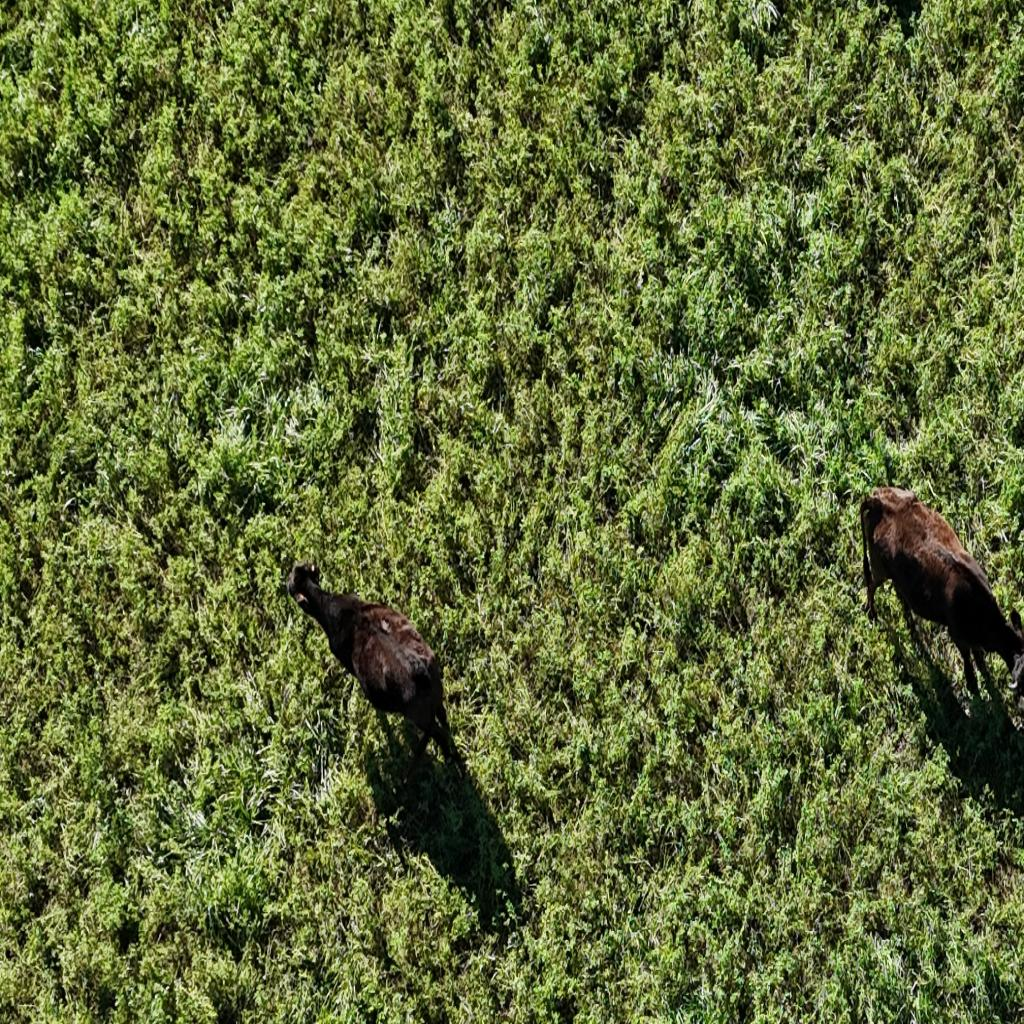cow: (248, 544, 504, 899), (828, 432, 1024, 774)
